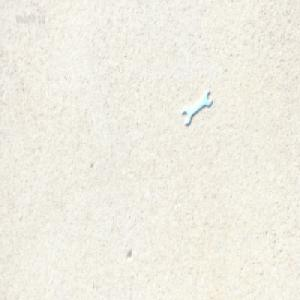Wrench: (182, 89, 212, 124)
